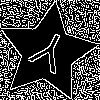Y: (22, 27, 72, 83)
